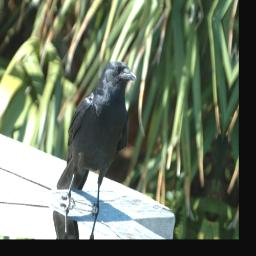Crow: (54, 49, 138, 215)
